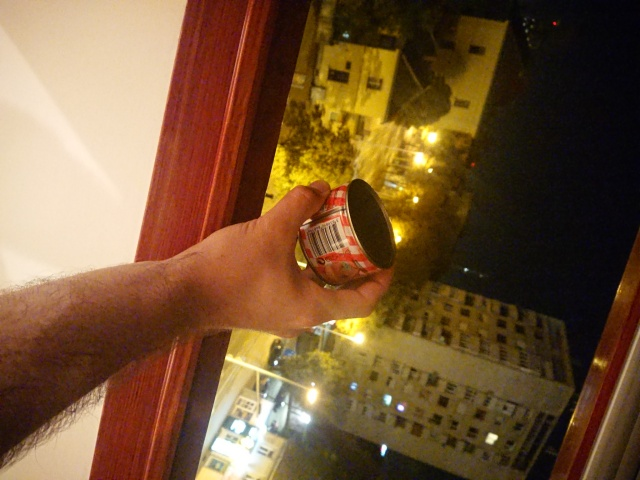Podravka Luncheon Meat 150g: (291, 175, 400, 288)
